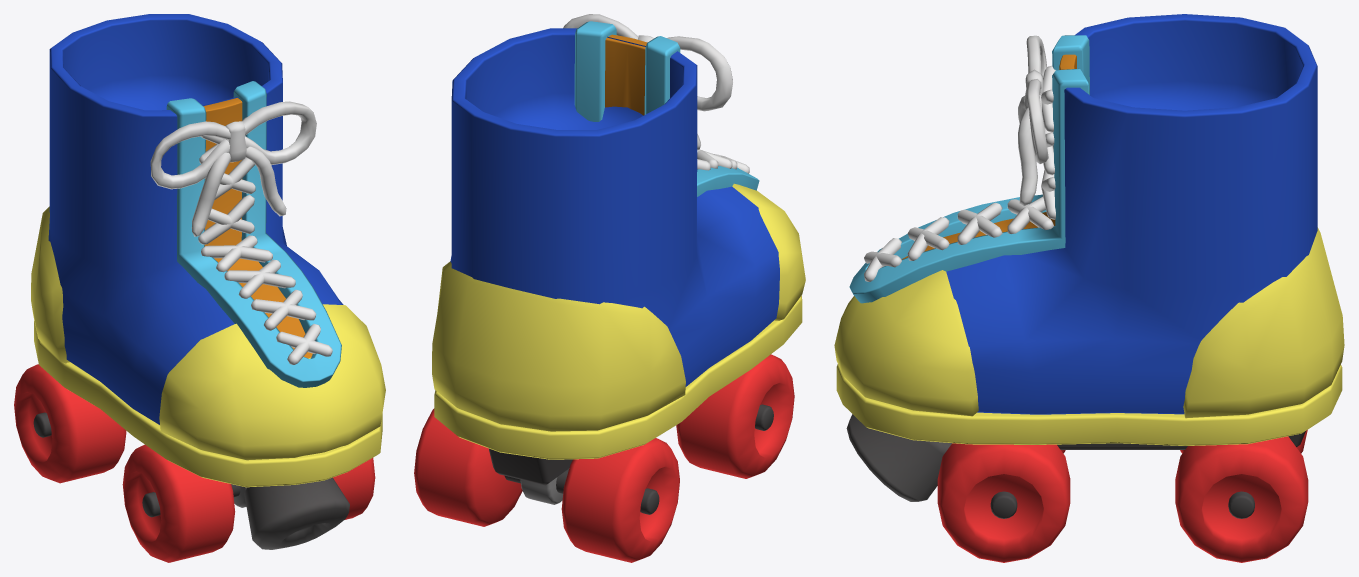
Rendered from RollerSkate.fbx.
3 views of the same model, side by side, from view 1: azimuth 30°, elevation 25°; view 2: azimuth 150°, elevation 25°; view 3: azimuth 270°, elevation 25° (orthographic). The views are drawn at different scales.
Parts seen in each view (by area): view 1: RollerSkate_geo; view 2: RollerSkate_geo; view 3: RollerSkate_geo.
Boxes of the visible parts, x1,y1,x2,y2 form: RollerSkate_geo: (14, 14, 385, 562); RollerSkate_geo: (414, 14, 805, 562); RollerSkate_geo: (834, 14, 1344, 562).
Bounding box in the file's own units: 50.3 × 93.48 × 94.57.
1 material, 1 textured.
